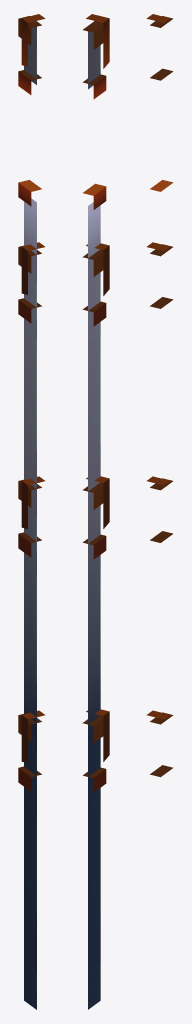
3 views of the same model, side by side, from view 1: azimuth 30°, elevation 25°; view 2: azimuth 150°, elevation 25°; view 3: azimuth 330°, elevation 25° (orthographic).
Bounding box in the file's own units: 0.7891 × 42.25 × 1.
Materials: 2 (2 with a texture image).
